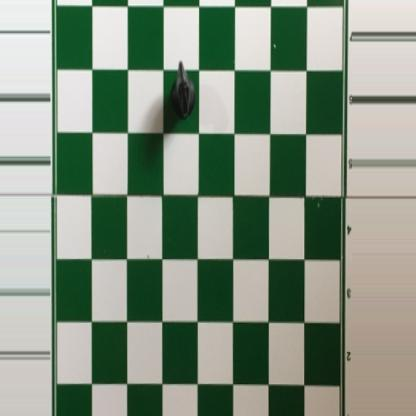black-knight: (170, 60, 196, 123)
